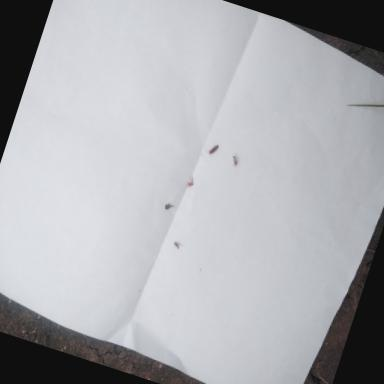pbw: (204, 142, 218, 157), (183, 174, 195, 190), (229, 152, 239, 166), (172, 242, 182, 250)
